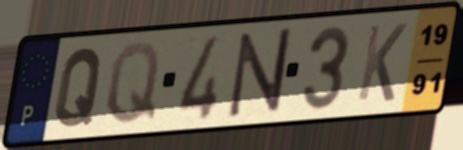3: (299, 22, 350, 113)
4: (177, 31, 223, 123)
K: (354, 21, 410, 105)
N: (226, 24, 294, 122)
Q: (103, 39, 163, 128), (52, 45, 106, 130)
